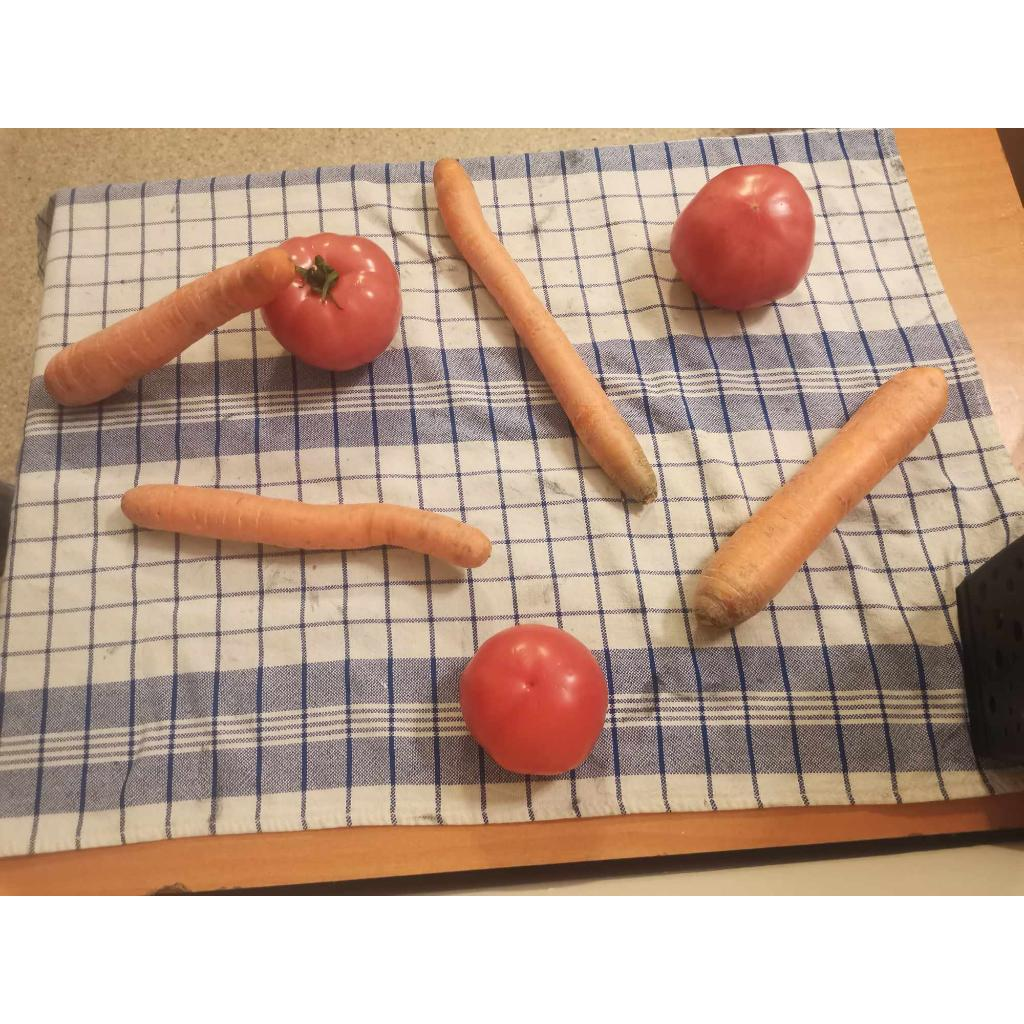carrot: (434, 158, 658, 504), (692, 368, 948, 628), (44, 248, 294, 406), (120, 484, 492, 568)
tomato: (460, 624, 608, 774), (670, 164, 814, 310), (262, 232, 402, 370)
